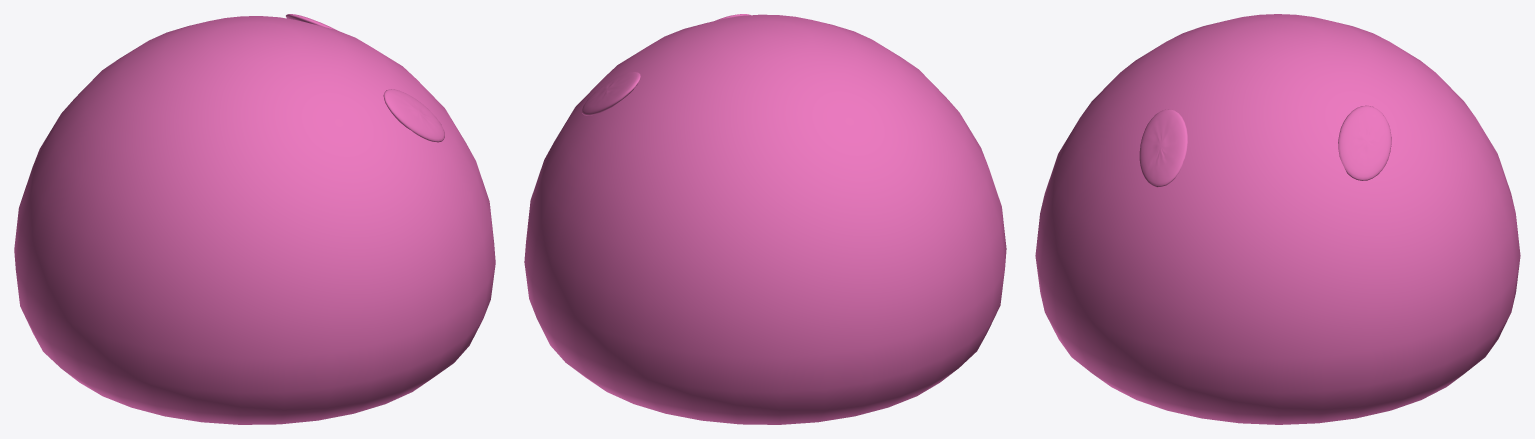
File: Pinkie.fbx
3 renders of one model, left to right at view 1: azimuth 30°, elevation 25°; view 2: azimuth 150°, elevation 25°; view 3: azimuth 270°, elevation 25°, orthographic.
Visible parts, largest first — view 1: Slime; view 2: Slime; view 3: Slime.
Boxes of the visible parts, bbox=[...] form: Slime: bbox=[14, 14, 495, 424]; Slime: bbox=[524, 14, 1006, 424]; Slime: bbox=[1035, 14, 1520, 424].
Bounding box in the file's own units: 200 × 144 × 200.
